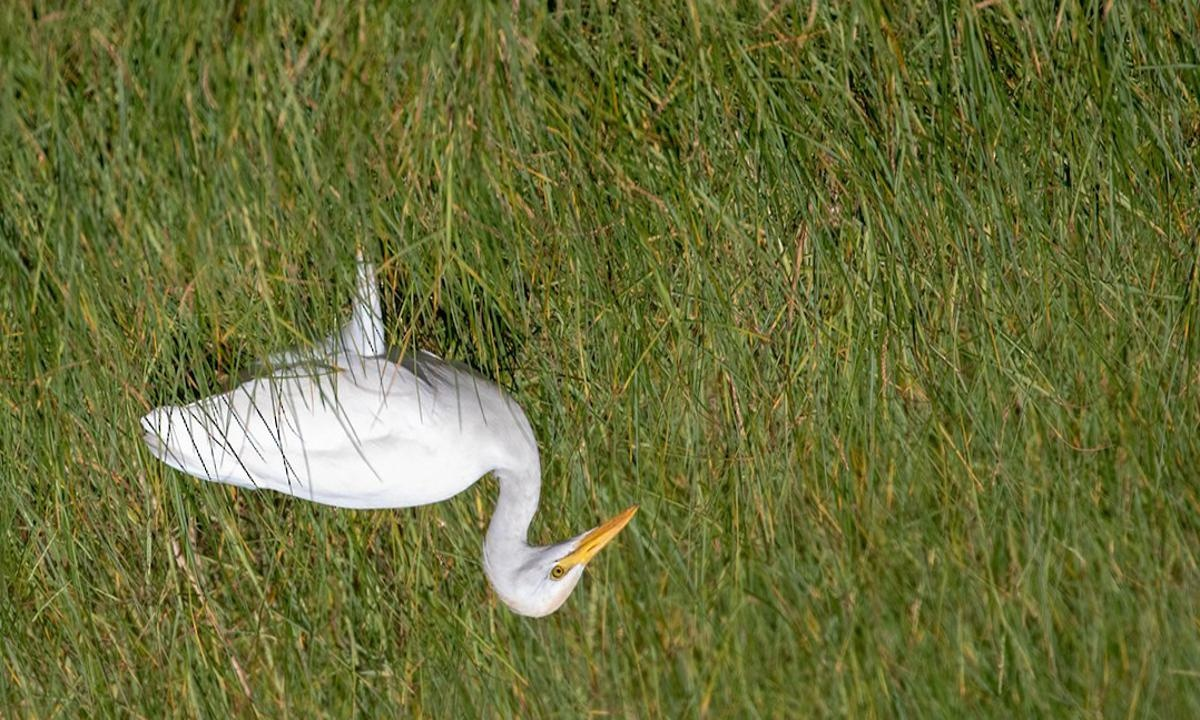egret: (112, 312, 650, 623)
